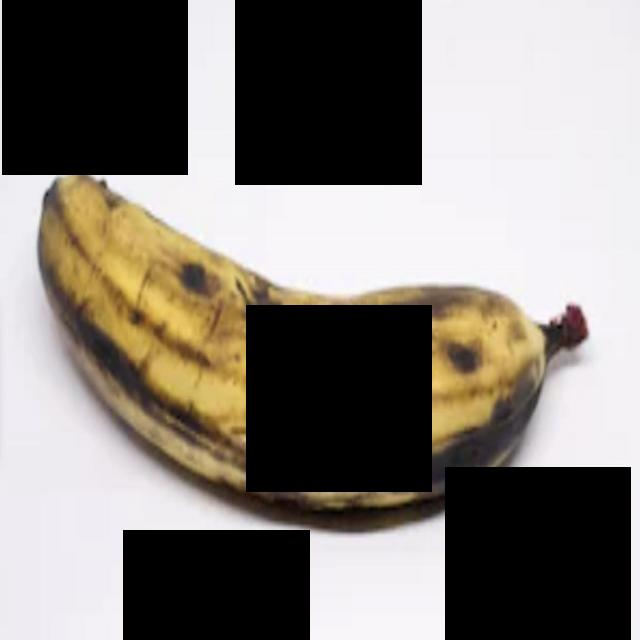banana: (9, 78, 638, 580)
